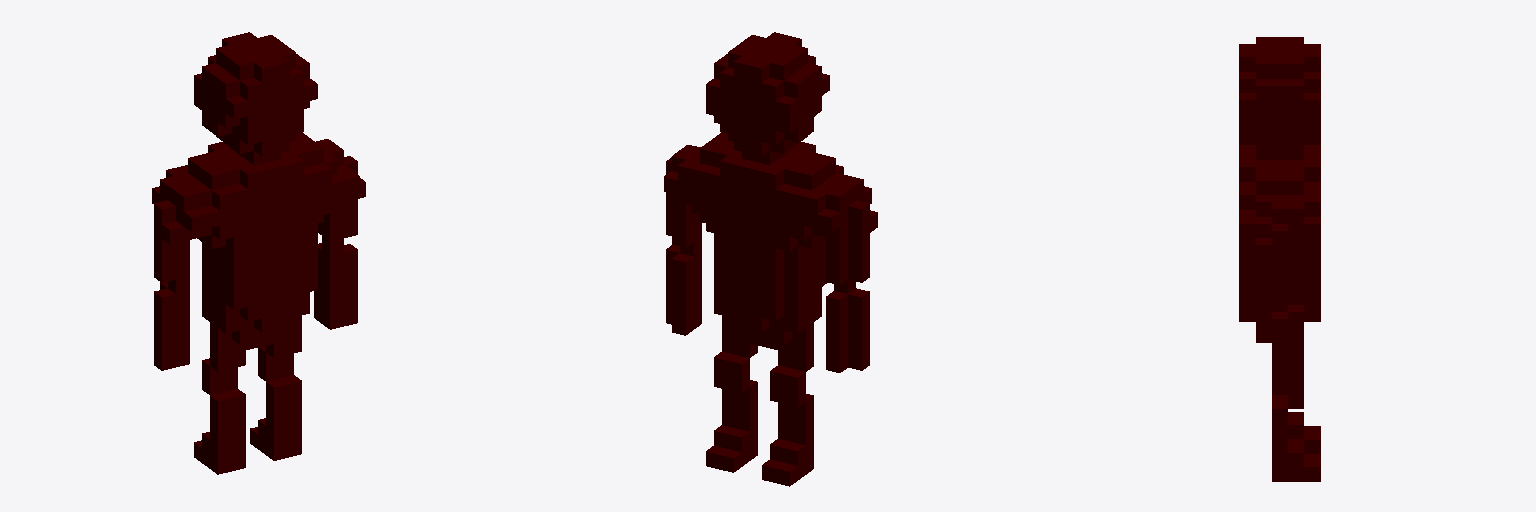
The picture shows the model from 3 angles: view 1: azimuth 30°, elevation 25°; view 2: azimuth 150°, elevation 25°; view 3: azimuth 270°, elevation 25°; orthographic projection.
Visible parts, largest first — view 1: men.model_men; view 2: men.model_men; view 3: men.model_men.
Boxes of the visible parts, <box> form: men.model_men: <box>152,32,365,474</box>; men.model_men: <box>664,32,877,486</box>; men.model_men: <box>1239,37,1320,481</box>.
Bounding box in the file's own units: 1.4 × 2.8 × 0.5.
Materials: 1 (1 with a texture image).